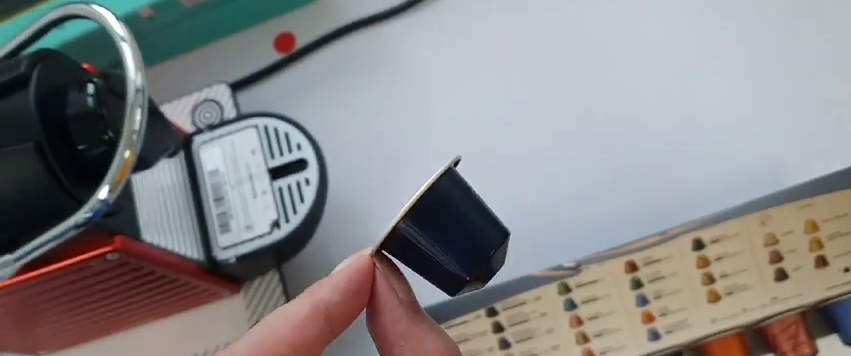capsule_1: (373, 155, 511, 298)
